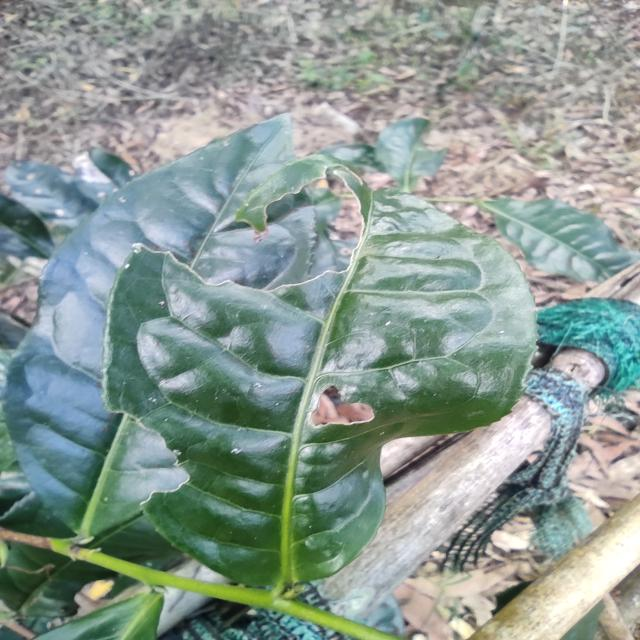Category D(7+ days, Not for Tea): (79, 107, 552, 601)
